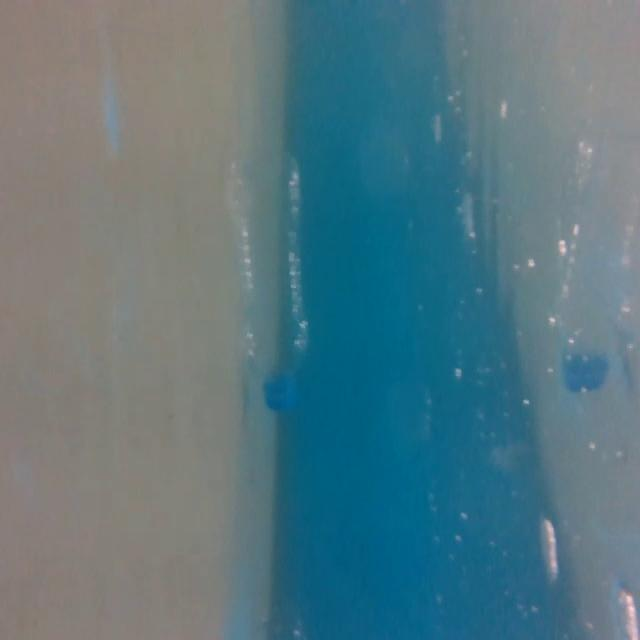plastic bottle: (218, 139, 323, 422)
